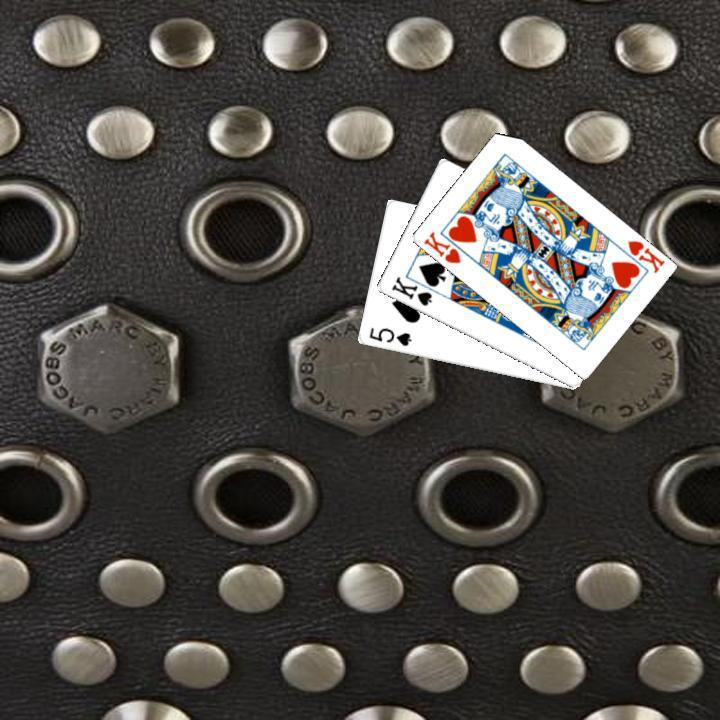5: (364, 323, 413, 348)
K: (419, 227, 463, 266), (387, 272, 434, 308), (623, 236, 666, 275)
